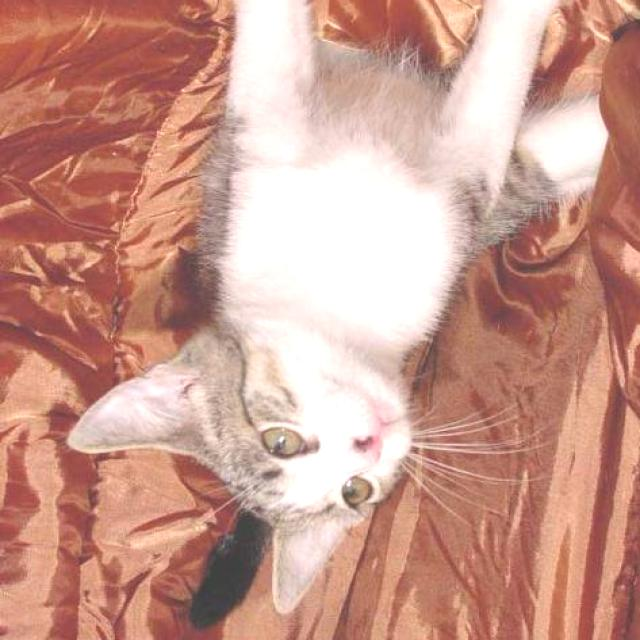Kucing: (63, 0, 640, 636)
